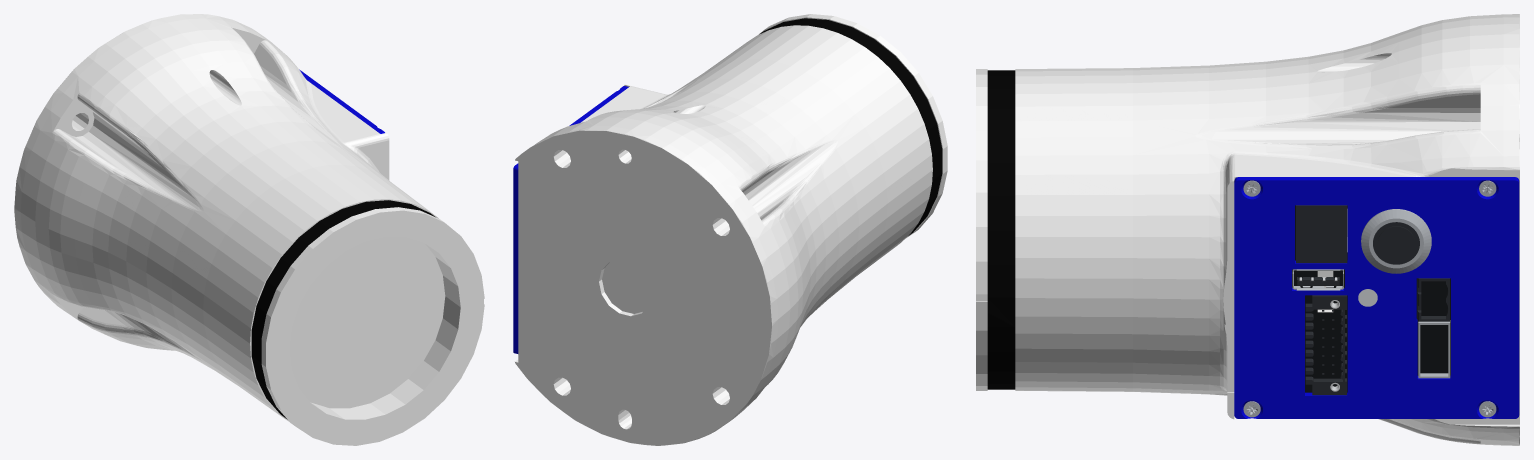
3 views of the same model, side by side, from view 1: azimuth 30°, elevation 25°; view 2: azimuth 150°, elevation 25°; view 3: azimuth 270°, elevation 25° (orthographic). The views are drawn at different scales.
Visible parts, largest first — view 1: Link; view 2: Link; view 3: Link.
Boxes of the visible parts, <box> form: Link: <box>14,14,484,445</box>; Link: <box>513,14,947,445</box>; Link: <box>976,14,1519,445</box>.
Size of the model in its own units: 0.0985 by 0.11 by 0.1385.
